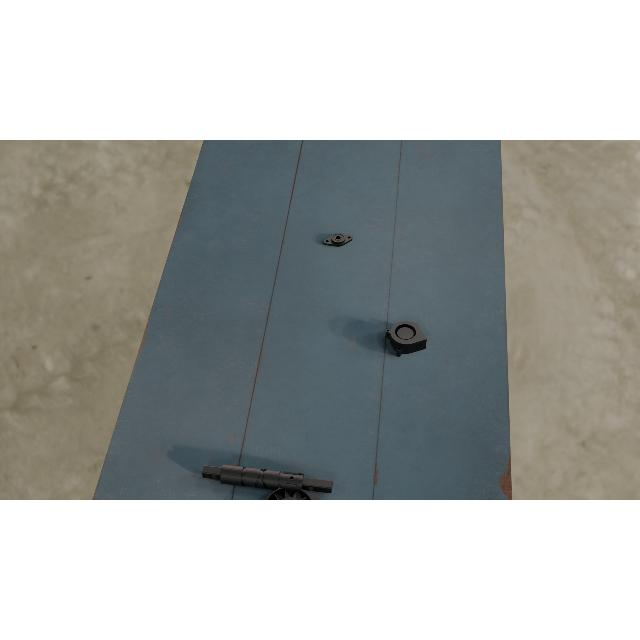Pieza1: (200, 458, 334, 500)
Pieza2: (322, 230, 354, 250)
Pieza3: (384, 317, 426, 358)
Pieza4: (254, 478, 324, 499)
